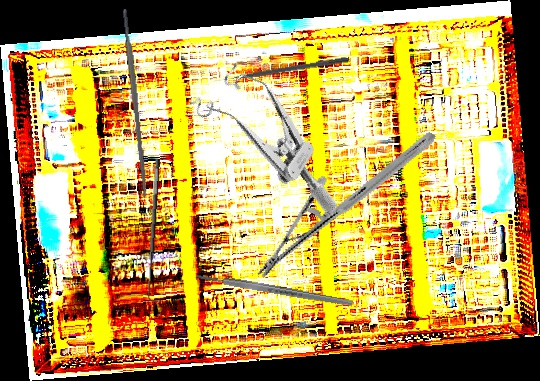Hook Surgical: (142, 158, 172, 304)
Needle Holder: (256, 92, 437, 318)
Pusher: (213, 55, 350, 84)
Scalpel Handle: (195, 271, 354, 309), (121, 8, 150, 198)
Speculum: (178, 51, 373, 216)
